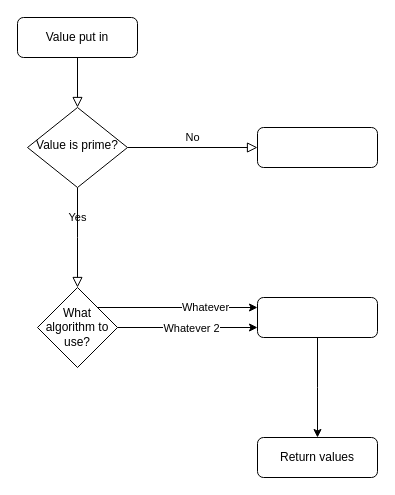
The diagram is 395 pixels wide and 495 high, and some of its shapes have lost their labels. Here are the shapes that lost their labels. From the top down, the centre of each, then its label:
At point 317,147: "Send 400 exception.".
At point 317,317: "Calculate primes up to value".
